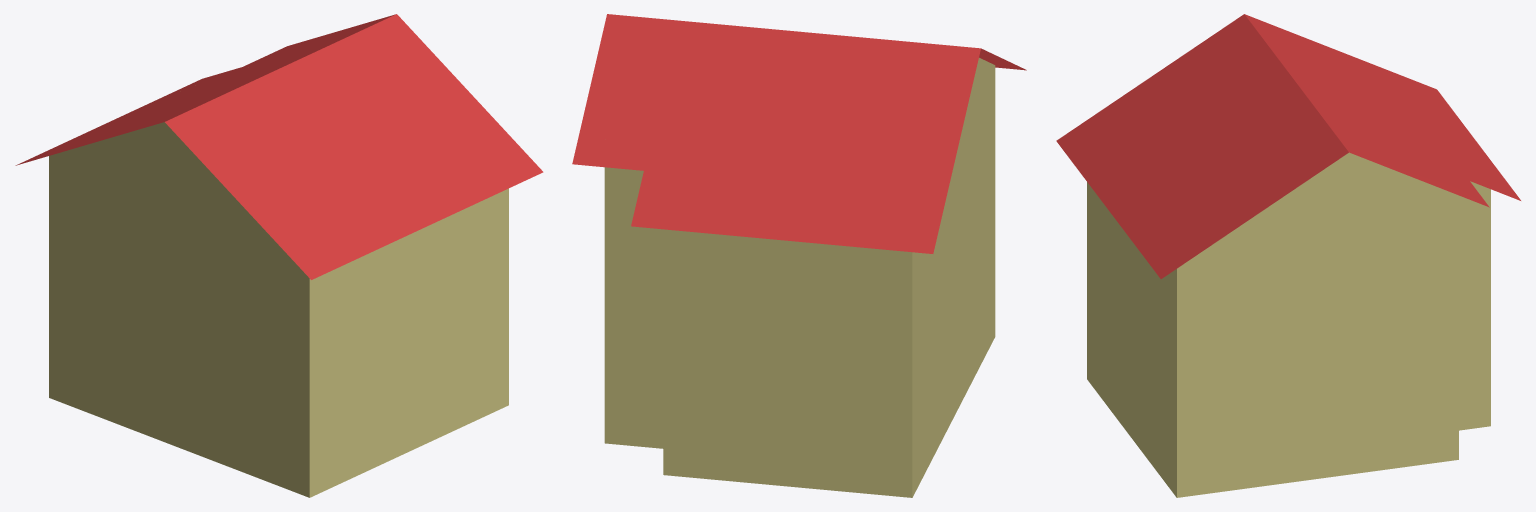
3 views of the same model, side by side, from view 1: azimuth 30°, elevation 25°; view 2: azimuth 150°, elevation 25°; view 3: azimuth 270°, elevation 25° (orthographic). The views are drawn at different scales.
Bounding box in the file's own units: 13.77 × 14.26 × 11.25.
